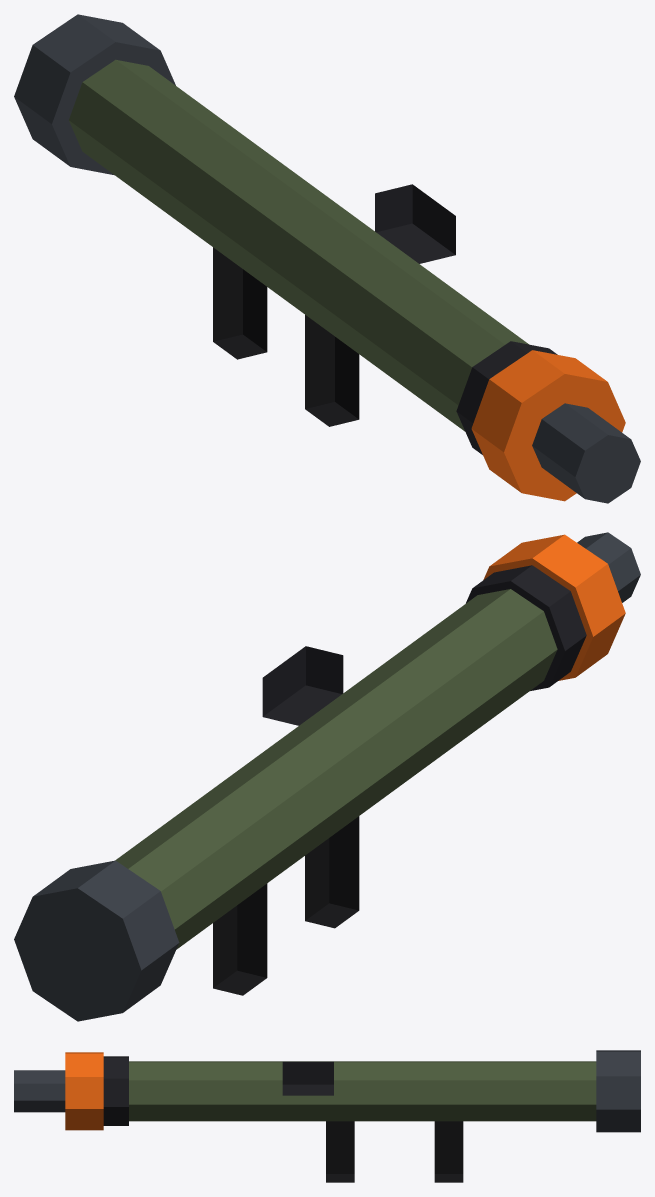
Rendered from Weapon_RocketLauncher.obj.
The picture shows the model from 3 angles, top to bottom: view 1: azimuth 30°, elevation 25°; view 2: azimuth 150°, elevation 25°; view 3: azimuth 270°, elevation 25°; orthographic projection. The views are drawn at different scales.
Parts seen in each view (by area): view 1: LaunchTube, WarheadBody, ExhaustCone, WarheadTip, FrontGrip, RearGrip, SightBox, MuzzleRing; view 2: LaunchTube, ExhaustCone, WarheadBody, SightBox, FrontGrip, RearGrip, MuzzleRing, WarheadTip; view 3: LaunchTube, ExhaustCone, WarheadBody, WarheadTip, RearGrip, MuzzleRing, SightBox, FrontGrip.
Part boxes in pixels (bbox=[...]): LaunchTube: bbox=[69, 59, 528, 431]; WarheadBody: bbox=[471, 350, 625, 501]; ExhaustCone: bbox=[14, 14, 175, 175]; WarheadTip: bbox=[532, 403, 640, 503]; FrontGrip: bbox=[305, 315, 359, 426]; RearGrip: bbox=[213, 247, 267, 359]; SightBox: bbox=[375, 184, 455, 263]; MuzzleRing: bbox=[456, 341, 557, 454]; LaunchTube: bbox=[115, 589, 557, 949]; ExhaustCone: bbox=[14, 860, 179, 1021]; WarheadBody: bbox=[483, 534, 625, 680]; SightBox: bbox=[262, 646, 343, 725]; FrontGrip: bbox=[305, 816, 359, 928]; RearGrip: bbox=[213, 883, 267, 995]; MuzzleRing: bbox=[466, 565, 586, 690]; WarheadTip: bbox=[577, 532, 640, 602]; LaunchTube: bbox=[129, 1061, 596, 1121]; ExhaustCone: bbox=[596, 1050, 640, 1132]; WarheadBody: bbox=[65, 1052, 103, 1130]; WarheadTip: bbox=[14, 1070, 65, 1112]; RearGrip: bbox=[434, 1121, 463, 1182]; MuzzleRing: bbox=[103, 1056, 128, 1125]; SightBox: bbox=[282, 1061, 333, 1095]; FrontGrip: bbox=[326, 1121, 354, 1182].
Size of the model in its own units: 0.148 by 0.22 by 0.98.
